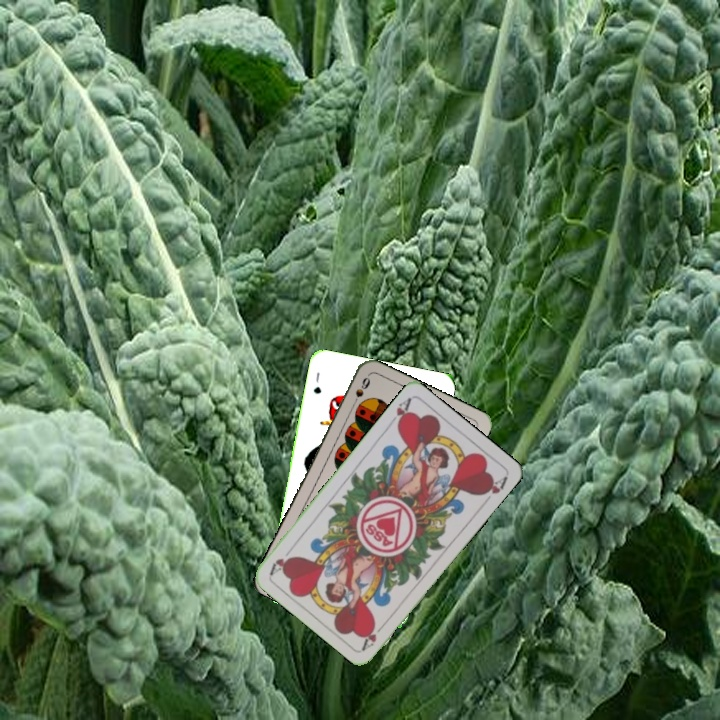GU: (309, 368, 324, 396)
HA: (384, 394, 414, 431), (358, 618, 389, 652)
S9: (347, 373, 373, 410)
